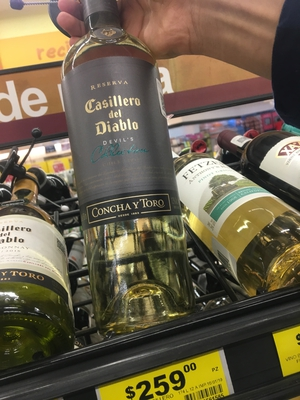casillero del diablo devils collection verde: (55, 4, 196, 323)
